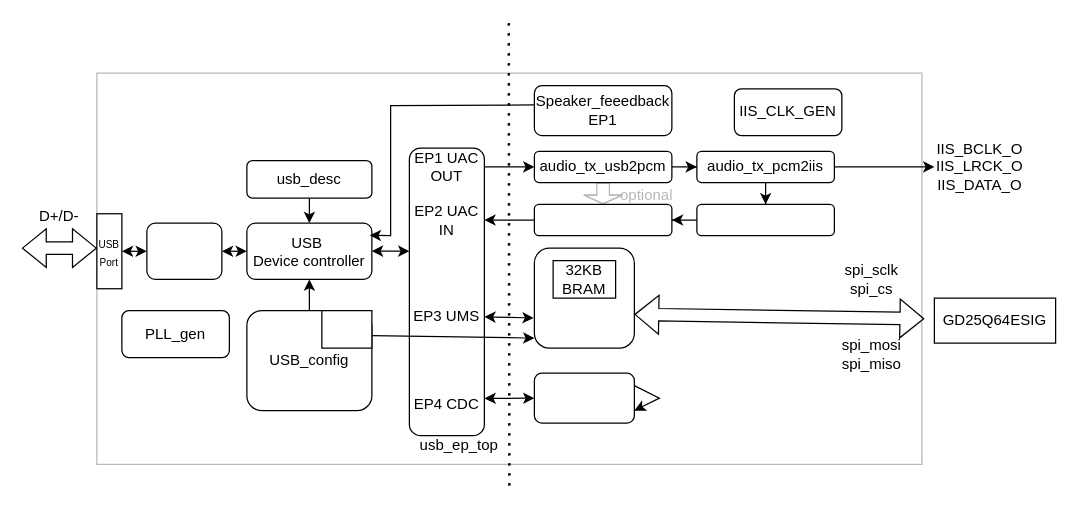
Image size: 1078x509. Some labels were removed from this diagram. The shapes that lost their labels are listed below. From the top down, each one's box as (x1, y1, x2, y2) in pixels, then its label:
(533, 203, 672, 236): audio_rx_pcm2usb
(696, 203, 834, 236): audio_rx_iis2pcm
(146, 222, 222, 279): USB20 SoftPhy
(533, 247, 634, 348): spi_flash controller
(321, 309, 372, 348): DFU
(533, 372, 634, 423): UART
